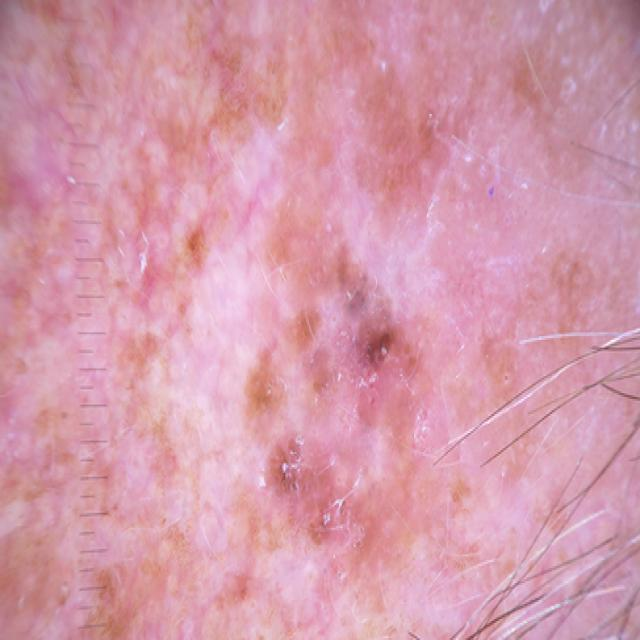Keratosis: (284, 43, 542, 304), (231, 359, 435, 582), (0, 130, 156, 406), (0, 547, 194, 640)
